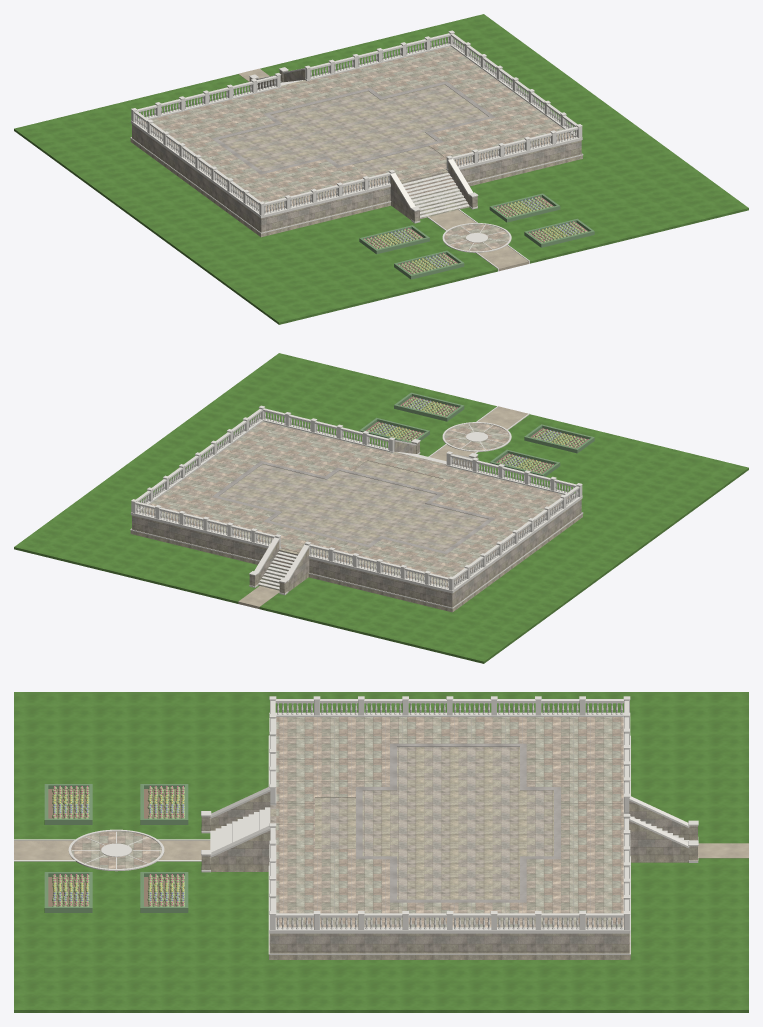
The model's file is site.glb.
The picture shows the model from 3 angles, top to bottom: view 1: azimuth 30°, elevation 25°; view 2: azimuth 150°, elevation 25°; view 3: azimuth 270°, elevation 25°; orthographic projection. The views are drawn at different scales.
Visible parts, largest first — view 1: site_grass, site_stone_r, site_paver, site_trim, site_hedge, site_leaf2, site_concrete, site_gravel, site_stone; view 2: site_grass, site_stone_r, site_paver, site_trim, site_hedge, site_concrete, site_leaf2, site_gravel; view 3: site_grass, site_paver, site_stone_r, site_trim, site_concrete, site_leaf2, site_hedge, site_gravel, site_soil, site_flower.
Part boxes in pixels (x1,y1,x2,y2): site_grass: [14, 14, 748, 324]; site_stone_r: [130, 69, 582, 237]; site_paver: [140, 46, 574, 251]; site_trim: [130, 30, 583, 271]; site_hedge: [359, 193, 594, 279]; site_leaf2: [364, 197, 587, 274]; site_concrete: [163, 53, 550, 198]; site_gravel: [238, 68, 528, 271]; site_stone: [403, 174, 469, 218]; site_grass: [14, 353, 748, 663]; site_stone_r: [130, 441, 582, 612]; site_paver: [139, 421, 573, 587]; site_trim: [130, 405, 583, 608]; site_hedge: [359, 392, 594, 476]; site_concrete: [147, 426, 540, 575]; site_leaf2: [367, 397, 587, 473]; site_gravel: [238, 406, 527, 608]; site_grass: [14, 692, 748, 1012]; site_paver: [71, 717, 623, 927]; site_stone_r: [201, 747, 697, 959]; site_trim: [14, 696, 698, 954]; site_concrete: [283, 717, 590, 926]; site_leaf2: [52, 786, 184, 906]; site_hedge: [44, 784, 188, 912]; site_gravel: [14, 840, 748, 859]; site_soil: [48, 789, 184, 906]; site_flower: [53, 786, 183, 905].
Size of the model in its own units: 44 by 3.16 by 43.
13 materials, 6 textured.
